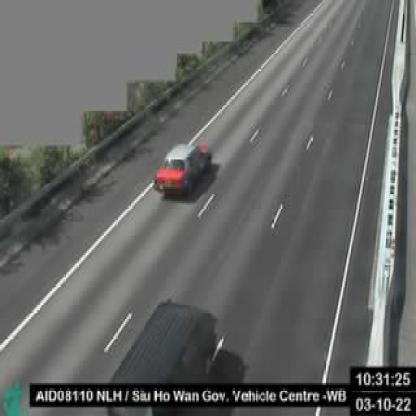Car: (107, 302, 214, 409), (154, 141, 210, 194)
